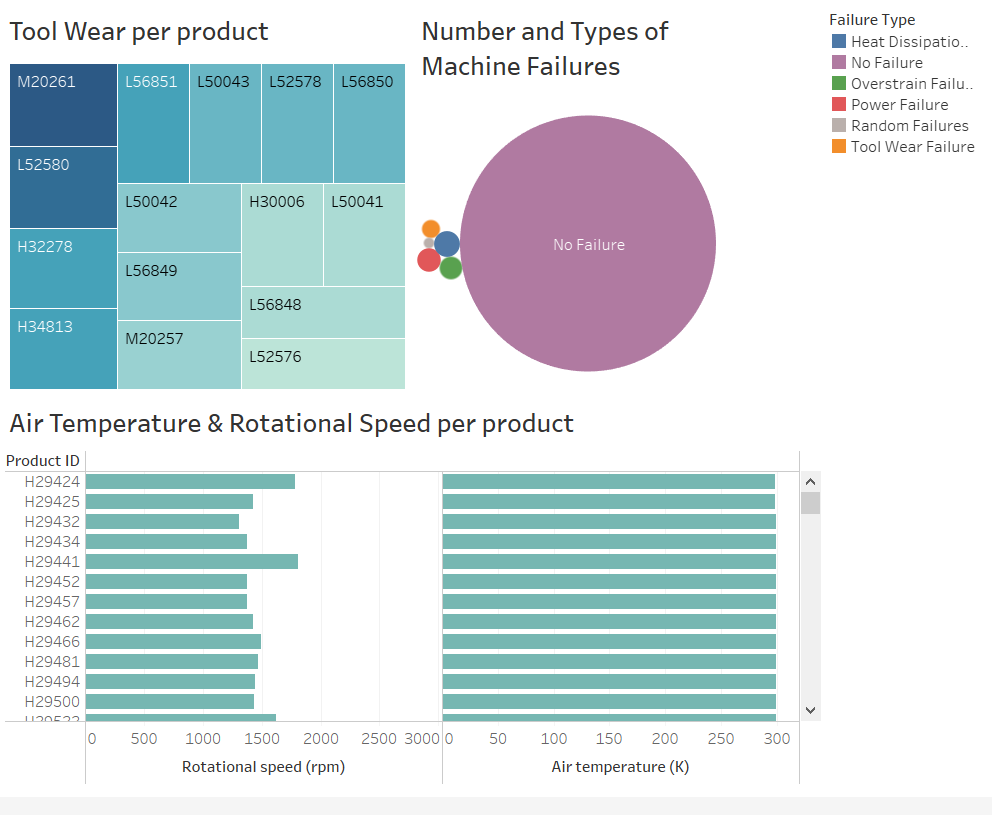

The page's visual inventory and layout, read from the dashboard file:
{"tool":"tableau","page":{"name":"Dashboard 1","canvas":[1000,800],"ordinal":0},"visuals":[{"type":"worksheet","title":"Sheet 3","mark":"Automatic","box":[8,8,412,392]},{"type":"worksheet","title":"Sheet 1","mark":"Circle","box":[420,8,412,392]},{"type":"legend","title":"Sheet 1","param":"[federated.0ix8fpf1lin2cy14w4ol81s77nmx].[none:Failure Type:nk]","box":[832,8,160,326]},{"type":"worksheet","title":"Sheet 2","mark":"Automatic","rows":["Product ID"],"cols":["Rotational speed (rpm)","Air temperature (K)"],"box":[8,400,824,392]}]}

Visuals, with their boxes in screenshot pixels (x1, y1, x2, y2), scaled from the page's 1000x800 canvas onto the 992x815 screenshot:
"Sheet 3" worksheet: 8,8,417,408
"Sheet 1" worksheet (Circle marks): 417,8,825,408
"Sheet 1" legend: 825,8,984,340
"Sheet 2" worksheet: 8,408,825,807
